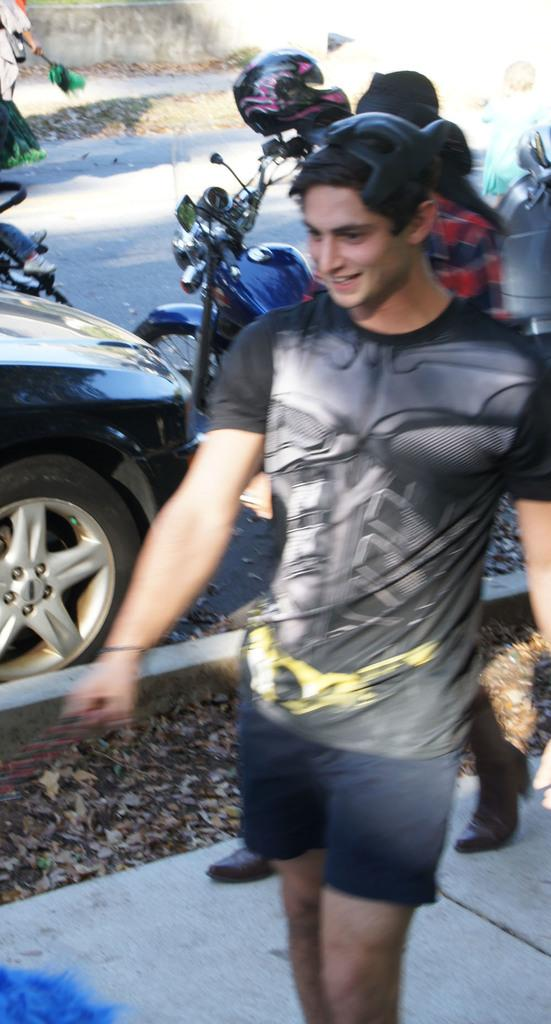helmet: (232, 48, 352, 137)
nohelmet: (298, 143, 439, 314)
